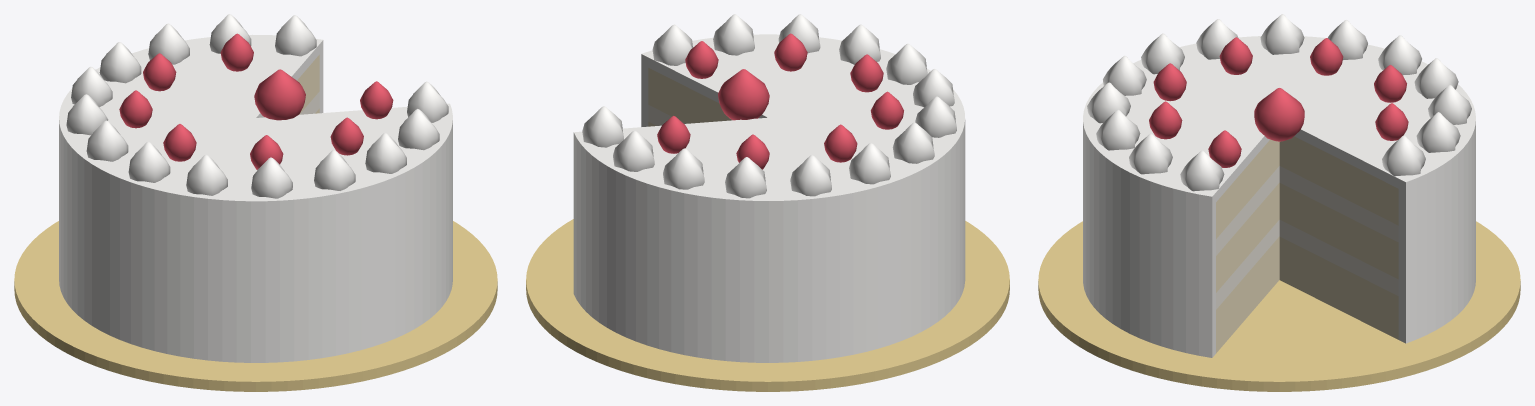
Rendered from bolo-redondo.glb.
The picture shows the model from 3 angles, left to right: view 1: azimuth 30°, elevation 25°; view 2: azimuth 150°, elevation 25°; view 3: azimuth 270°, elevation 25°; orthographic projection.
Parts seen in each view (by area): view 1: cobertura, base, decoracao, massa; view 2: cobertura, base, decoracao, massa; view 3: cobertura, base, massa, decoracao, recheio.
Boxes of the visible parts, x1,y1,x2,y2 form: cobertura: [59, 14, 452, 362]; base: [14, 221, 497, 391]; decoracao: [119, 33, 393, 169]; massa: [297, 54, 319, 114]; cobertura: [573, 14, 965, 362]; base: [526, 219, 1009, 391]; decoracao: [657, 33, 903, 169]; massa: [648, 68, 731, 126]; cobertura: [1083, 14, 1475, 357]; base: [1038, 221, 1520, 391]; massa: [1216, 136, 1398, 353]; decoracao: [1149, 37, 1408, 167]; recheio: [1216, 166, 1398, 309].
Size of the model in its own units: 0.26 by 0.1274 by 0.26.
